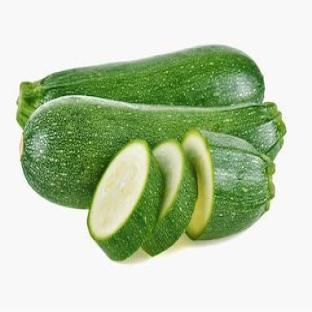Zucchini: (22, 96, 285, 207), (18, 46, 264, 127), (183, 131, 274, 239), (88, 141, 162, 260), (143, 140, 197, 255)
